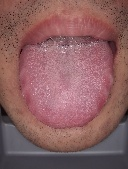tongue: (19, 48, 116, 131)
